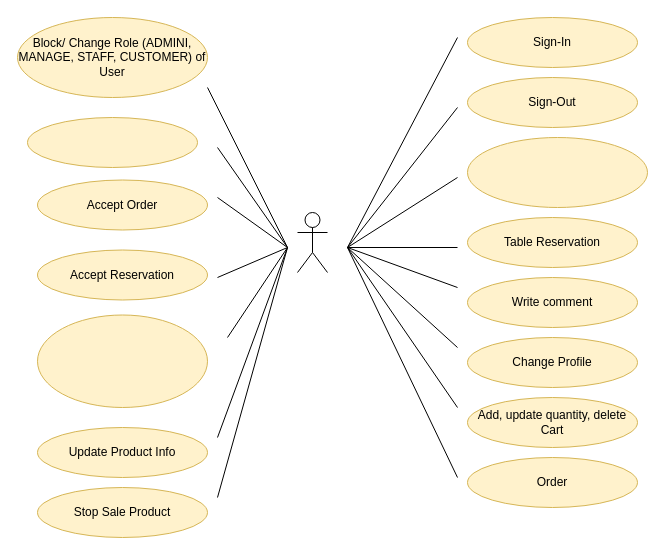
The diagram is 665 pixels wide and 555 high, and some of its shapes have lost their labels. Here are the shapes that lost their labels. From the top down, the box of each, then its label:
(26, 116, 198, 168): Search User, Order, Billing, Product, comment
(466, 136, 648, 208): View Sign-up, Sign-In, Home, Menu, Reservation, Profile, Cart, Order Detail Page
(296, 212, 328, 272): Admin
(36, 314, 208, 408): View Dashboard, Product, Product Detail, Order, Billing, Comment manager page
